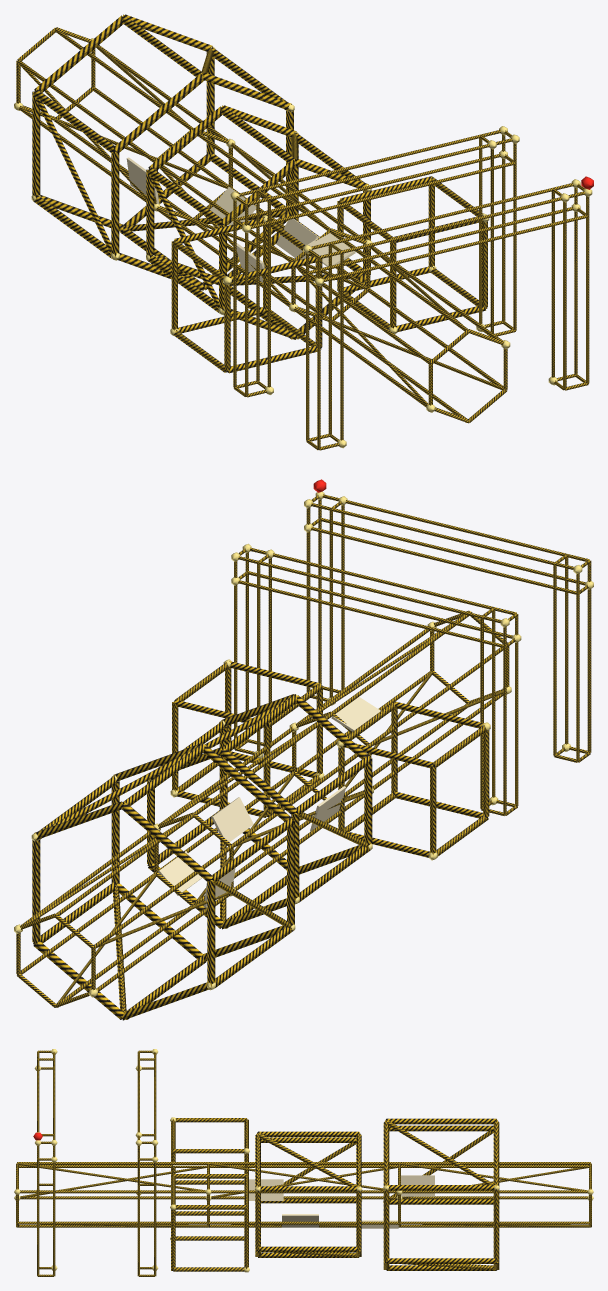
File: manufacturing_center_build1.obj
The picture shows the model from 3 angles, top to bottom: view 1: azimuth 30°, elevation 25°; view 2: azimuth 150°, elevation 25°; view 3: azimuth 270°, elevation 25°; orthographic projection. The views are drawn at different scales.
Parts seen in each view (by area): view 1: girder, post, brace, plate, work_light; view 2: girder, post, brace, plate, work_light; view 3: post, girder, brace, plate, work_light.
Part boxes in pixels (x1=…): girder: x1=16, y1=14, x2=589, y2=450; post: x1=17, y1=14, x2=507, y2=422; brace: x1=19, y1=45, x2=503, y2=405; plate: x1=126, y1=157, x2=355, y2=282; work_light: x1=14, y1=38, x2=592, y2=448; girder: x1=16, y1=494, x2=591, y2=1020; post: x1=17, y1=611, x2=506, y2=1019; brace: x1=22, y1=616, x2=503, y2=1011; plate: x1=158, y1=697, x2=380, y2=907; work_light: x1=14, y1=491, x2=593, y2=997; post: x1=17, y1=1118, x2=590, y2=1270; girder: x1=16, y1=1050, x2=591, y2=1276; brace: x1=19, y1=1120, x2=589, y2=1270; plate: x1=173, y1=1165, x2=434, y2=1228; work_light: x1=14, y1=1049, x2=593, y2=1272.
Size of the model in its own units: 96.73 by 87.85 by 253.
Materials: 4 (1 with a texture image).
